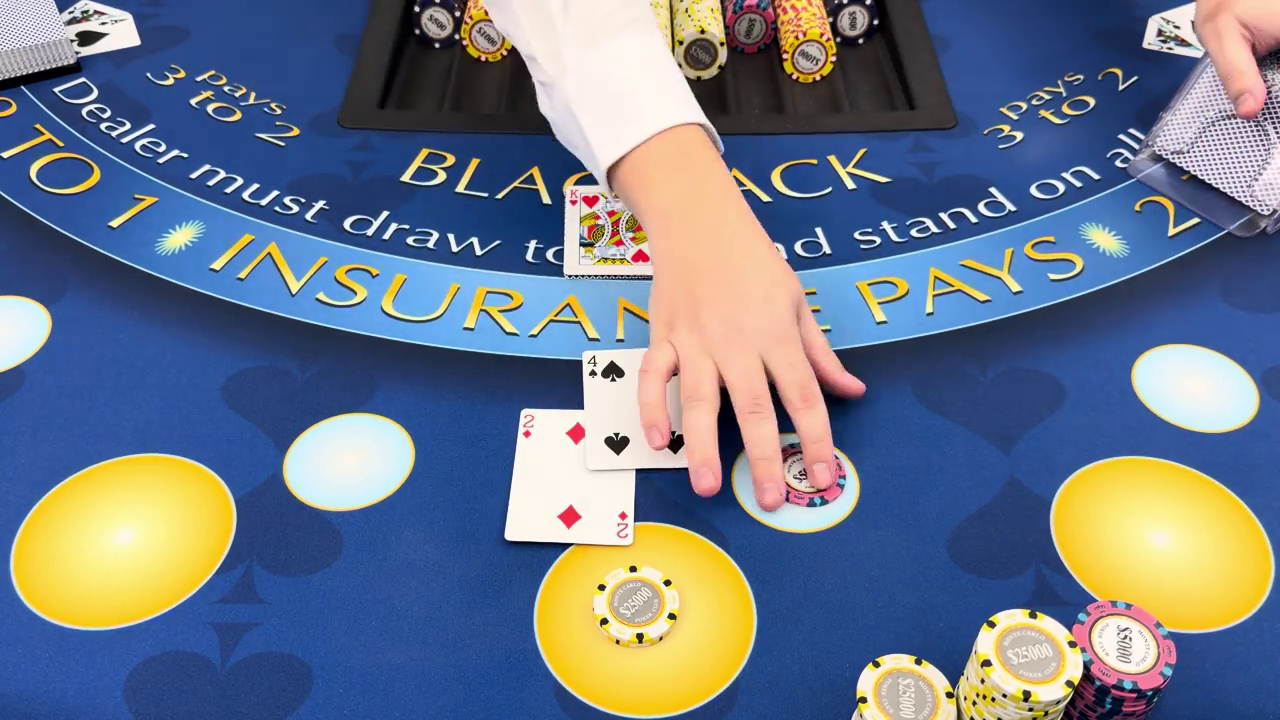2D: (613, 510, 632, 542), (522, 412, 536, 442)
4S: (584, 348, 603, 383)
KH: (565, 185, 582, 210)
